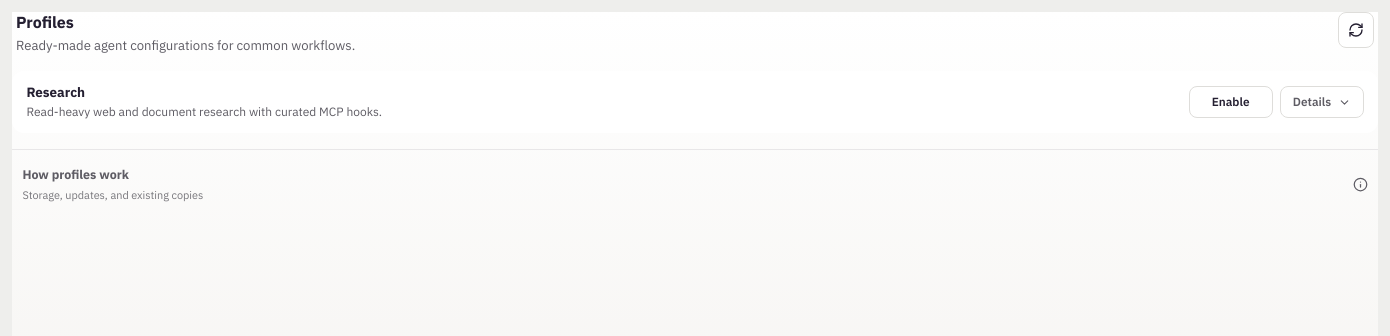
Test: ProfilesSettingsPanel › shows compact profile rows and hides technical details by default
Expected: the heading "Research" is shown, [26,83,85,101]
Expected: the text "Read-heavy web and document research with curated MCP hooks." is shown, [26,104,382,119]
Click the button "Details": (1322, 102) [1280,86,1364,118]
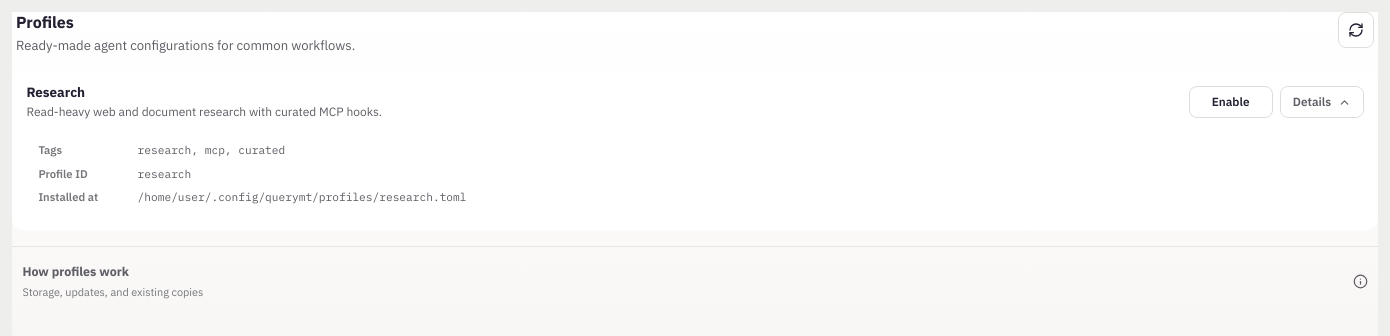
Result: the text "/home/user/.config/querymt/profiles/research.toml" is shown at [138,190,466,204]
Result: the text "research, mcp, curated" is shown at [138,143,285,157]
Click the button "Details": (1322, 102) [1280,86,1364,118]
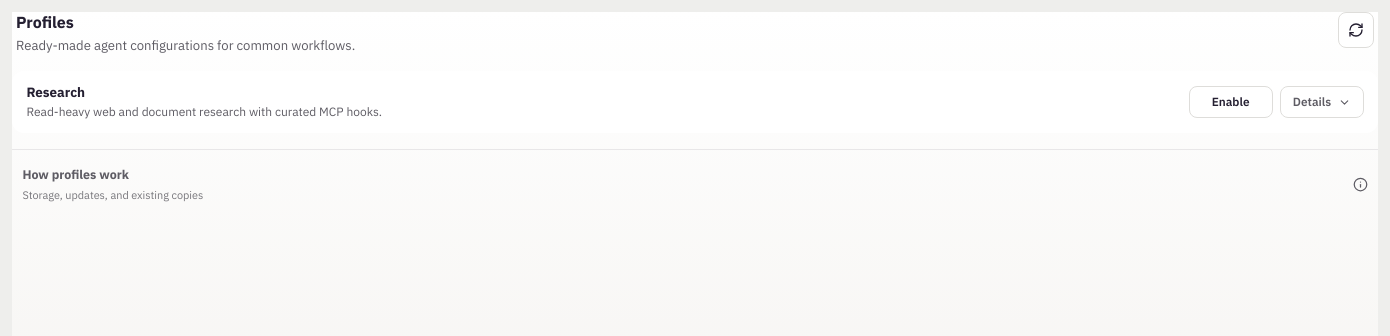
Result: the text "/home/user/.config/querymt/profiles/research.toml" is gone
